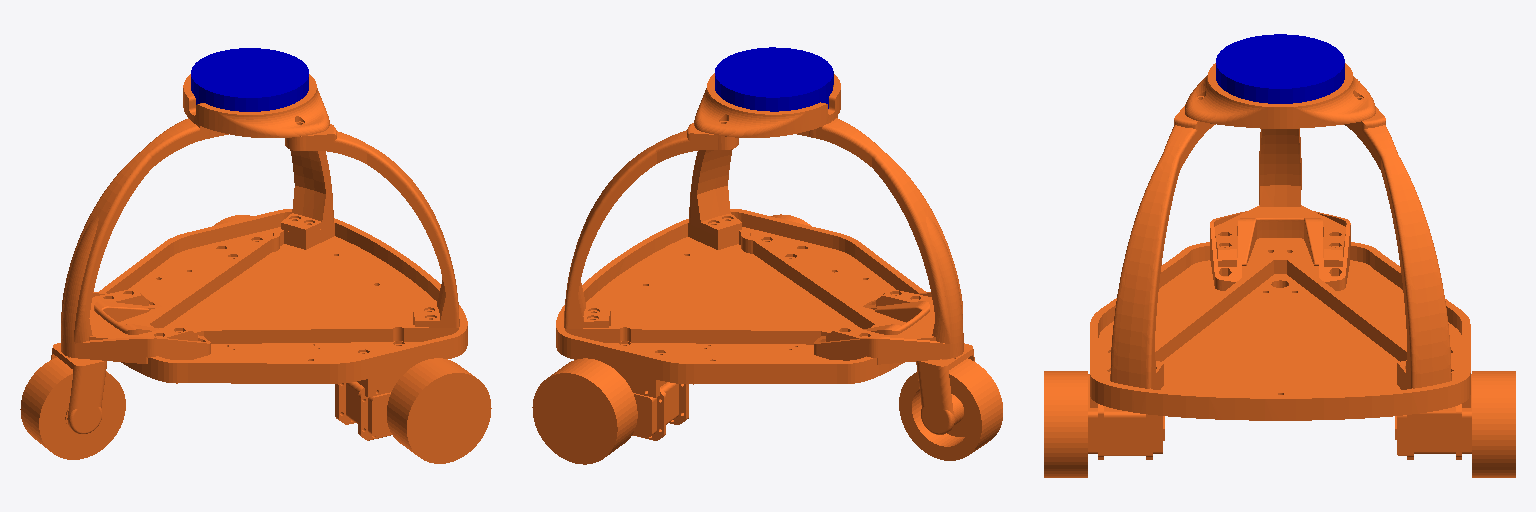
URDF robot description (cartographer_backpack_2d):
<?xml version="1.0"?>

<robot name="cartographer_backpack_2d">
  <material name="orange">
    <color rgba="1.0 0.5 0.2 1" />
  </material>
  <material name="gray">
    <color rgba="0.2 0.2 0.2 1" />
  </material>
<material name="blue">
 <color rgba="0 0 0.8 1"/>
</material>

<link name="laser">
      <visual>
      <origin xyz="0 0 0" />
      <geometry>
        <cylinder length="0.02" radius="0.04" />
      </geometry>
      <material name="blue" />
      </visual>
</link>


<link name="base_link">
     <visual>
      <origin rpy="0 0 0" xyz="0 0 0"/>
     <geometry>
         <mesh filename="package://urdf_tutorial/meshes/robot_p1.stl"/>
     </geometry>
	<material name="orange" />
     </visual>
</link>


<joint name="laser_joint" type="fixed">
    <parent link="base_link" />
    <child link="laser" />
    <origin xyz="0 0 0.2373" />
</joint>

 <!-- <link name="left_wheel">
    <visual>
      <origin rpy="1.57 0 0" xyz="0 0 0" />
      <geometry>
        <cylinder length="0.027" radius="0.033" />
      </geometry>
      <material name="gray" />
    </visual>
  </link>

  <link name="right_wheel">
    <visual>
      <origin rpy="1.57 0 0" xyz="0 0 0" />
      <geometry>
        <cylinder length="0.027" radius="0.033" />
      </geometry>
      <material name="gray" />
    </visual>
  </link>

  <link name="rear_wheel">
    <visual>
      <origin rpy="1.57 0 0" xyz="0 0 0" />
      <geometry>
        <cylinder length="0.027" radius="0.033" />
      </geometry>
      <material name="gray" />
    </visual>
  </link>

<link name="hub_link">
     <visual>
      <origin rpy="0 0 1.57" xyz="0 0 0"/>
     <geometry>
         <mesh filename="package://urdf_tutorial/meshes/robot_p1_hub.stl"/>
     </geometry>
	<material name="orange" />
     </visual>
</link>-->

<!--
  <joint name="left_wheel_joint" type="continuous">
    <axis rpy="0 0 0" xyz="0 1 0"/>
    <parent link="base_link" />
    <child link="left_wheel" />
    <origin xyz="0.0605 0.1335 -0.04458" />
  </joint>

 <joint name="right_wheel_joint" type="continuous">
    <axis rpy="0 0 0" xyz="0 1 0"/>
    <parent link="base_link" />
    <child link="right_wheel" />
    <origin xyz="0.0605 -0.1335 -0.04458" />
  </joint>-->
<!--
  <joint name="hub_joint" type="fixed">
    <parent link="base_link" />
    <child link="hub_link" />
    <origin xyz="-0.13 0 -0.049" />
  </joint>

 <joint name="rear_wheel_joint" type="continuous">
    <axis rpy="0 0 0" xyz="0 1 0"/>
    <parent link="hub_link" />
    <child link="rear_wheel" />
    <origin xyz="-0.0175 0 0.003" />
  </joint>-->
</robot>

--- Render facts (derived) ---
3 views of the same robot in one strip: view 1: azimuth 30°, elevation 25°; view 2: azimuth 150°, elevation 25°; view 3: azimuth 270°, elevation 25° (orthographic).
Model cartographer_backpack_2d with 2 links and 1 joints (1 fixed), rooted at base_link, posed all joints at 0.
Visible links, largest first — view 1: base_link, laser; view 2: base_link, laser; view 3: base_link, laser.
Link boxes in pixels (x1,y1,x2,y2): base_link: [20, 74, 491, 463]; laser: [191, 48, 308, 111]; base_link: [532, 73, 1002, 464]; laser: [715, 47, 833, 111]; base_link: [1044, 63, 1515, 477]; laser: [1216, 34, 1344, 103].
Bounding box of the posed robot: 0.2985 × 0.291 × 0.2493 m (x, y, z).
1 mesh visuals loaded from 1 distinct referenced files (1 binary STL).